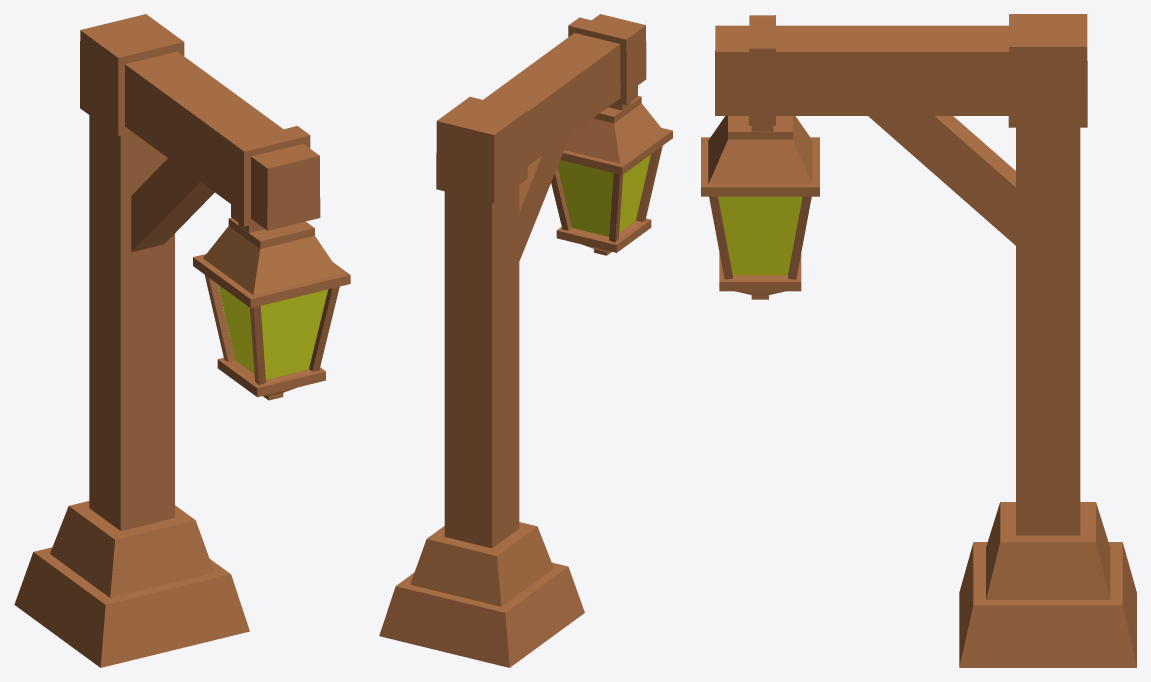
Rendered from Lamp.fbx.
3 views of the same model, side by side, from view 1: azimuth 30°, elevation 25°; view 2: azimuth 150°, elevation 25°; view 3: azimuth 270°, elevation 25° (orthographic). The views are drawn at different scales.
Parts seen in each view (by area): view 1: Cube.003, Cube.004; view 2: Cube.003, Cube.004; view 3: Cube.003, Cube.004.
Boxes of the visible parts, x1,y1,x2,y2 form: Cube.003: (14,14,350,667); Cube.004: (218,284,327,379); Cube.003: (379,14,672,667); Cube.004: (557,154,650,236); Cube.003: (701,14,1136,667); Cube.004: (718,196,802,275).
Bounding box in the file's own units: 274 × 1029 × 672.
